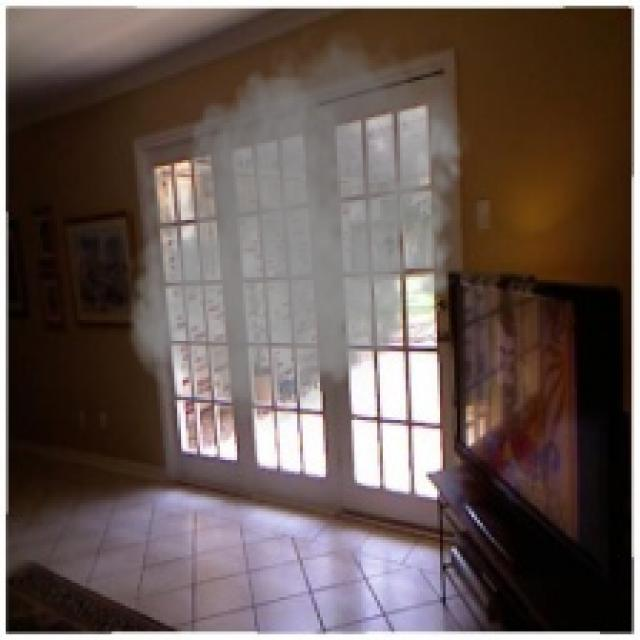smoke: (123, 17, 474, 432)
